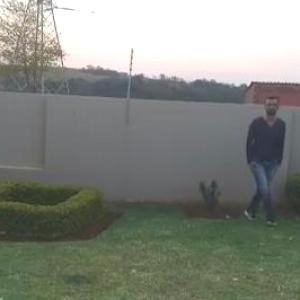follow: (235, 95, 288, 218)
